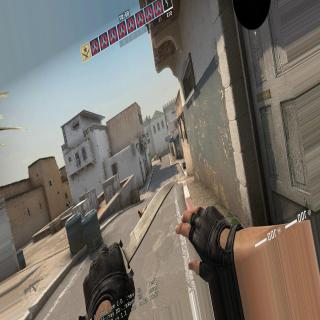CT-Body: (66, 200, 70, 208), (159, 154, 162, 162)
CT-Head: (67, 200, 69, 202), (160, 154, 160, 156)
